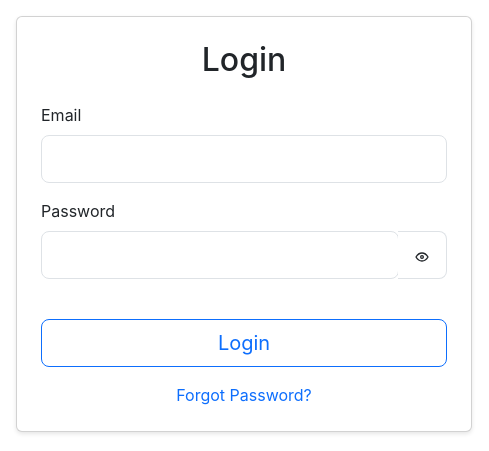
Test: Login Component › shows loading state and disables button on submit
Type "test@example.com" into the field labelled "Email" at (244, 159), box [41,135,447,183]
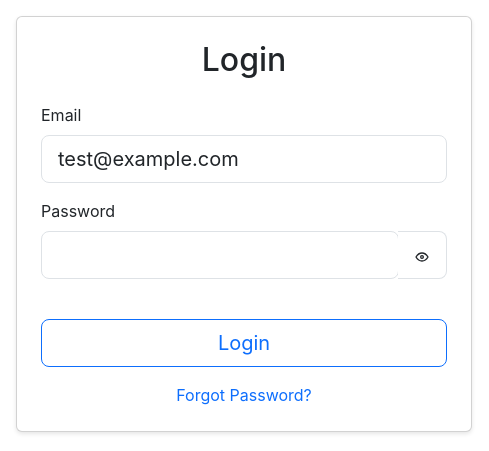
Type "testpass" into the password field labelled "Password" at (220, 255), box [41,231,399,279]
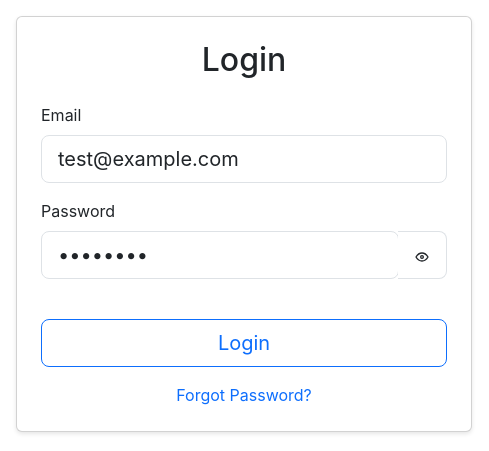
Click the button "Login" at (244, 343), box [41,319,447,367]
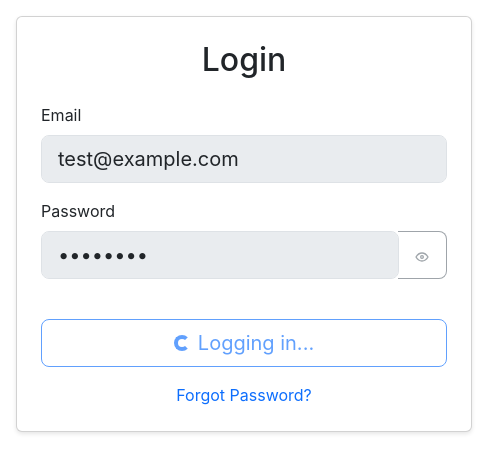
Check: the button named "login" is disabled, box [41,319,447,367]
